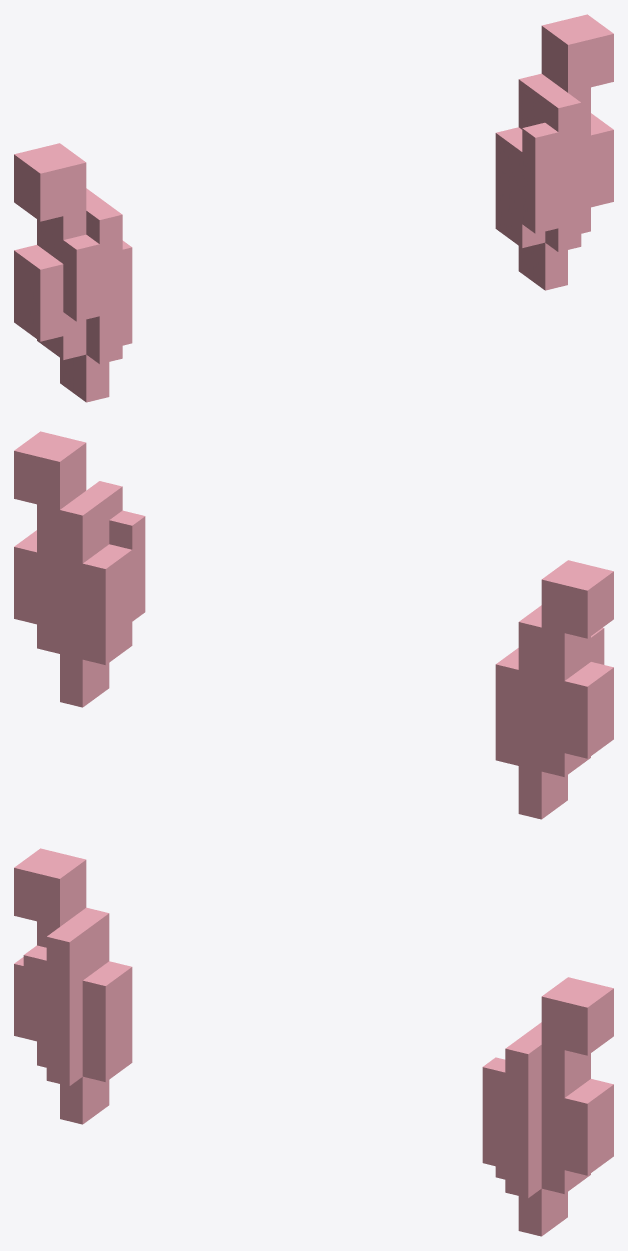
Rendered from rosa.obj.
The picture shows the model from 3 angles, top to bottom: view 1: azimuth 30°, elevation 25°; view 2: azimuth 150°, elevation 25°; view 3: azimuth 330°, elevation 25°; orthographic projection.
Bounding box in the file's own units: 3.05 × 1.22 × 0.3656.
